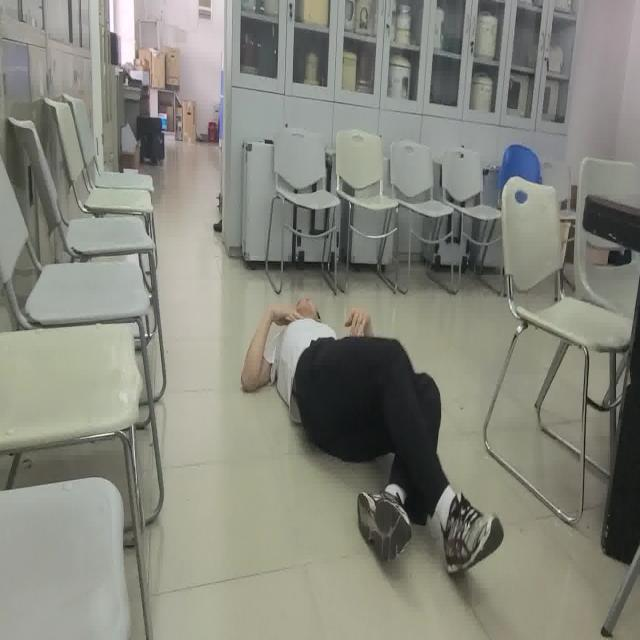fall: (239, 293, 505, 581)
